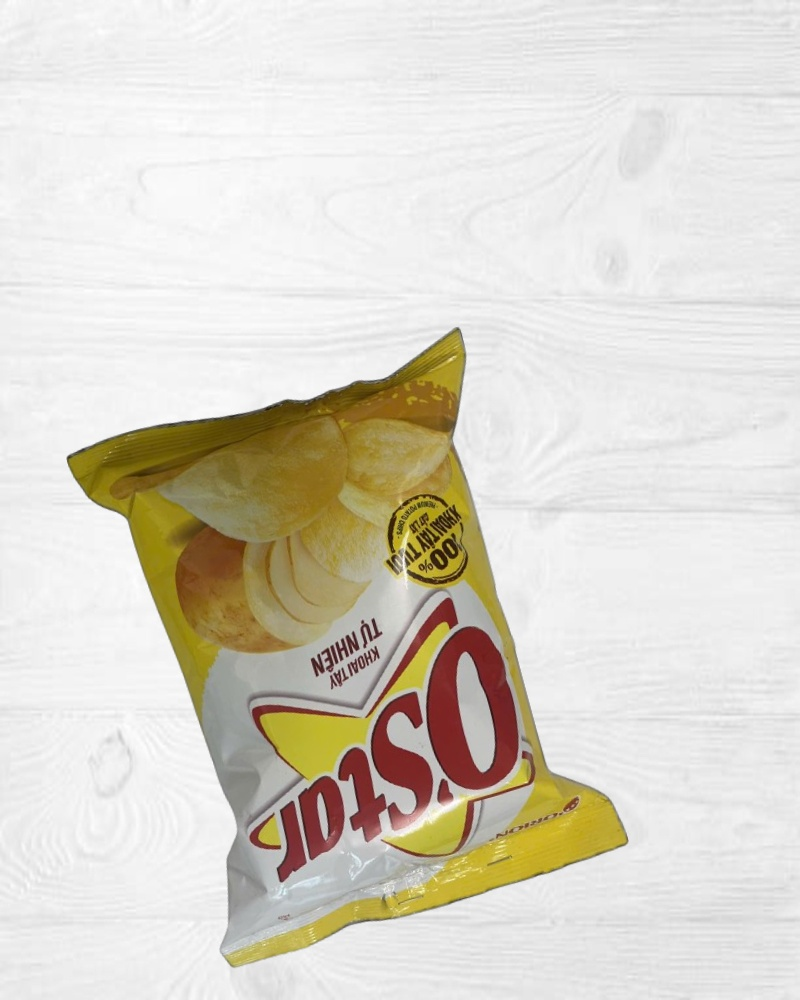Snack cua: (67, 326, 630, 968)
